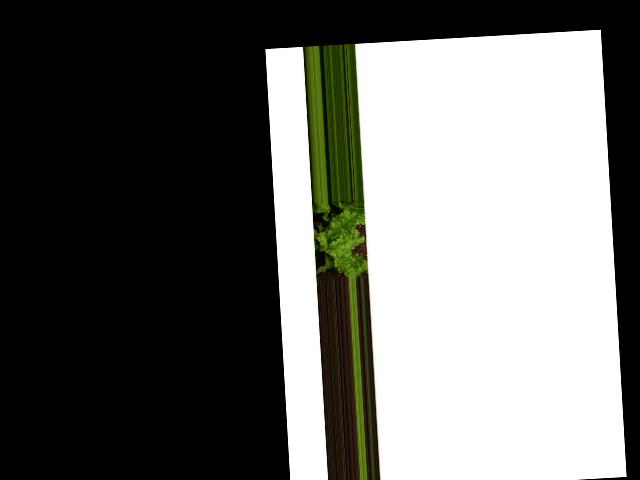lettuce: (308, 199, 366, 279)
